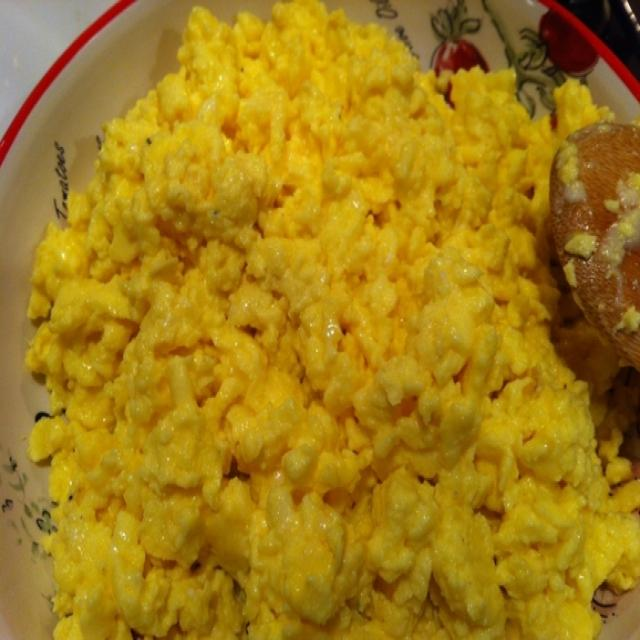鸡蛋料理: (30, 10, 608, 634)
